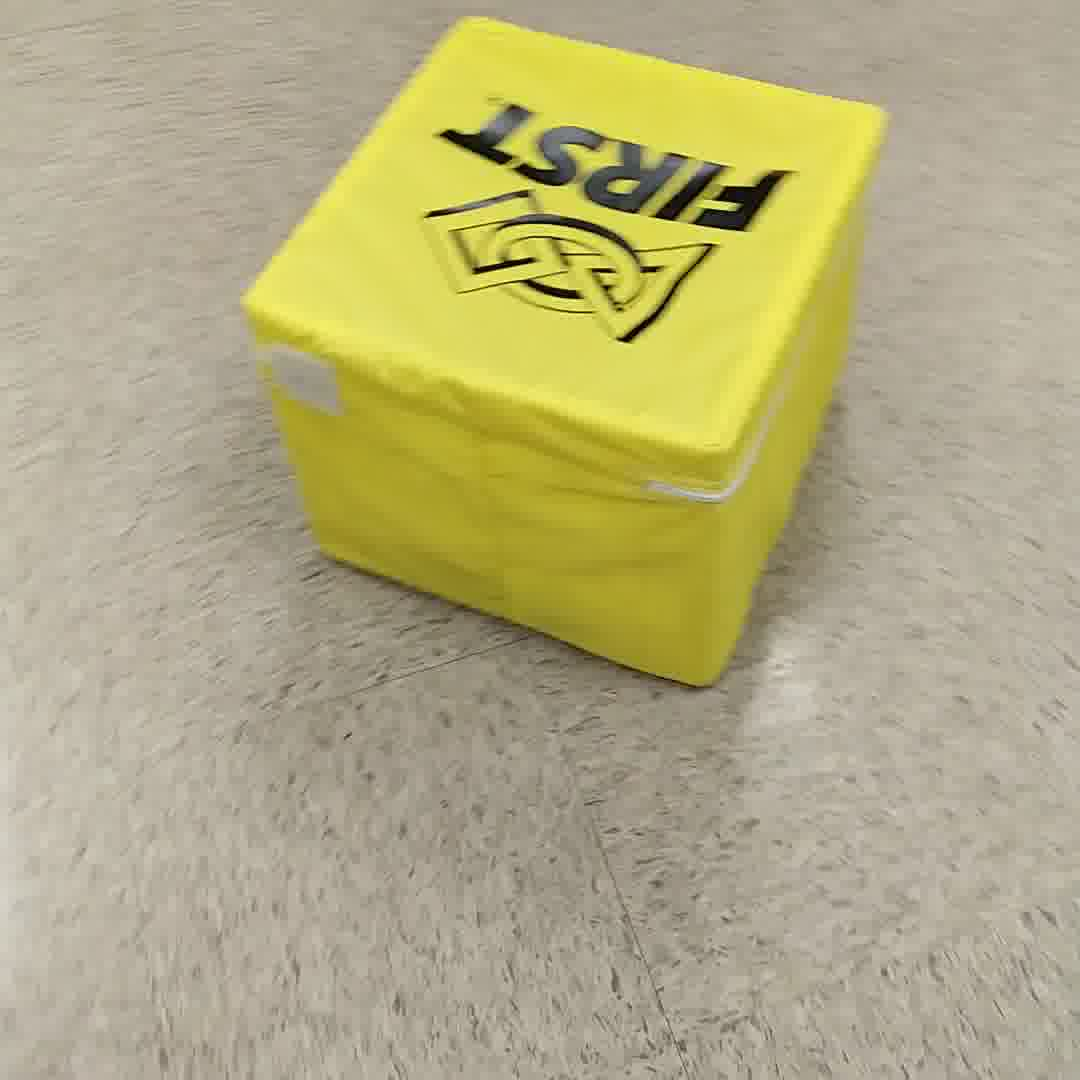box: (212, 19, 895, 695)
